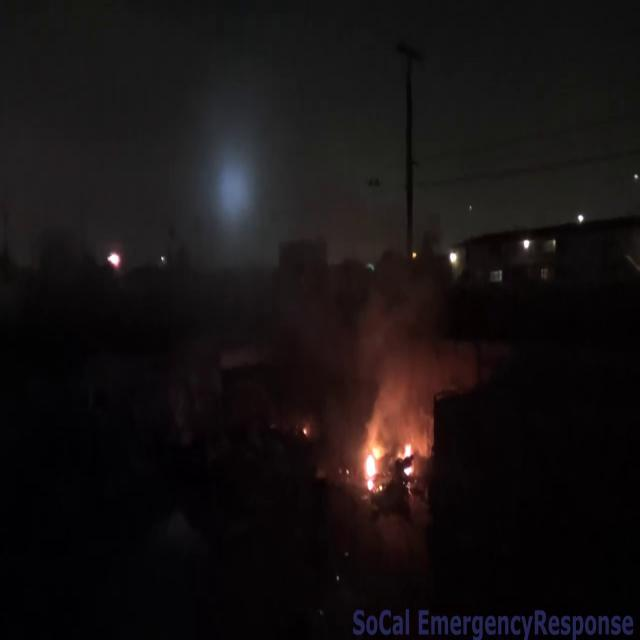Fire: (358, 422, 419, 486)
Smoke: (352, 248, 469, 428)
